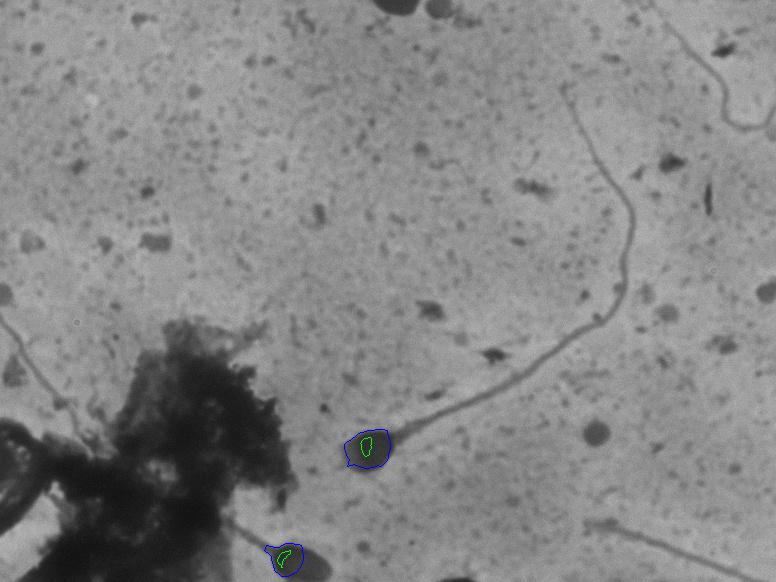Abnormal: (322, 73, 645, 486)
